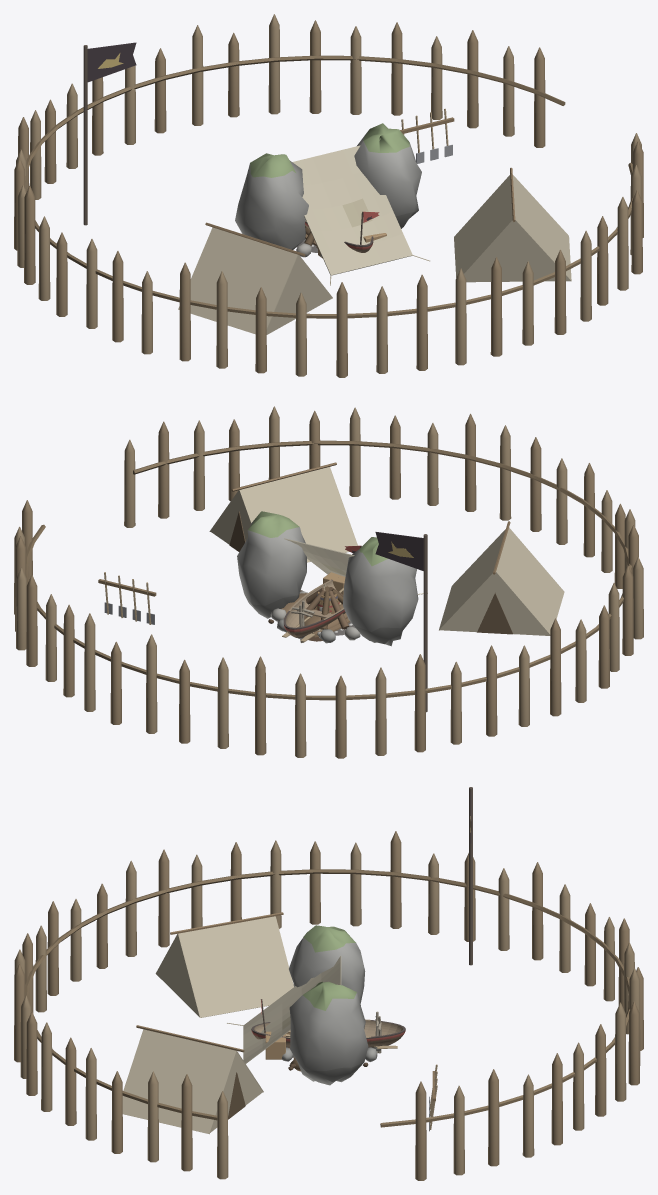
File: story.glb
3 views of the same model, one above another, from view 1: azimuth 30°, elevation 25°; view 2: azimuth 150°, elevation 25°; view 3: azimuth 270°, elevation 25° (orthographic).
Visible parts, largest first — view 1: dig_camp, powder_store; view 2: dig_camp, powder_store, bonfire, rowboat; view 3: dig_camp, powder_store, rowboat.
Part boxes in pixels (x1,y1,x2,y2): dig_camp: (14,14,643,377); powder_store: (235,123,429,285); dig_camp: (14,406,643,758); powder_store: (237,511,427,646); bonfire: (270,586,360,643); rowboat: (282,545,361,642); dig_camp: (14,787,643,1180); powder_store: (227,925,368,1085); rowboat: (251,999,405,1048).
Size of the model in its own units: 15.18 by 5.12 by 15.49.
